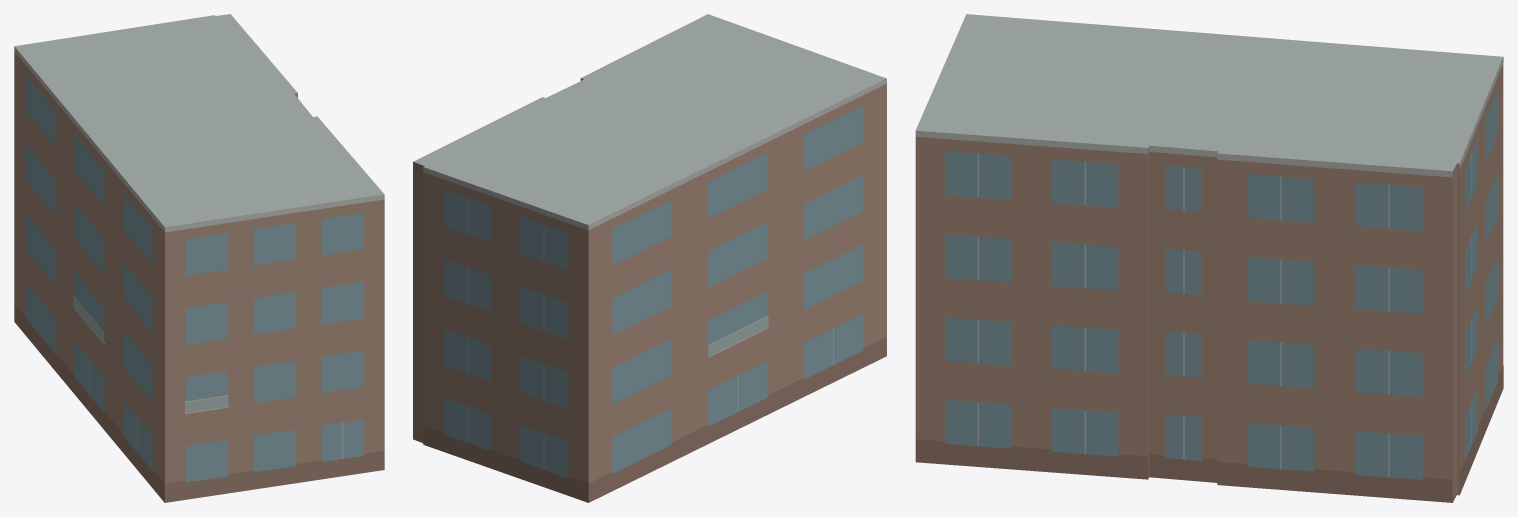
The model's file is survey-upis-32991387.glb.
3 renders of one model, left to right at view 1: azimuth 30°, elevation 25°; view 2: azimuth 150°, elevation 25°; view 3: azimuth 270°, elevation 25°, orthographic. The views are drawn at different scales.
Parts seen in each view (by area): view 1: survey-upis-32991387.tmp; view 2: survey-upis-32991387.tmp; view 3: survey-upis-32991387.tmp.
Boxes of the visible parts, left/top/right/bottom form: survey-upis-32991387.tmp: left=14, top=14, right=384, bottom=502; survey-upis-32991387.tmp: left=413, top=14, right=886, bottom=502; survey-upis-32991387.tmp: left=915, top=14, right=1503, bottom=502.
Size of the model in its own units: 13.39 by 13.15 by 21.14.
